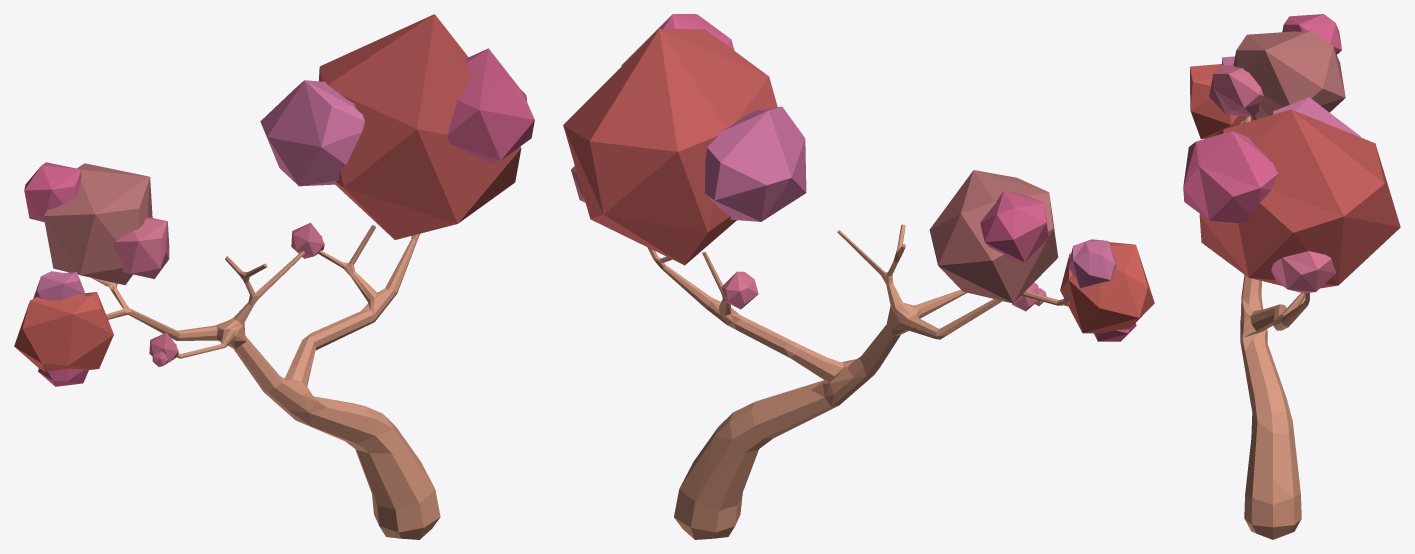
Rendered from Cherry Tree.fbx.
3 renders of one model, left to right at view 1: azimuth 30°, elevation 25°; view 2: azimuth 150°, elevation 25°; view 3: azimuth 270°, elevation 25°, orthographic. The views are drawn at different scales.
Visible parts, largest first — view 1: Icosphere.008, Cube, Icosphere, Icosphere.006, Icosphere.007, Icosphere.005, Icosphere.001, Icosphere.002, Icosphere.004, Icosphere.010, Icosphere.003; view 2: Icosphere.008, Cube, Icosphere.006, Icosphere, Icosphere.005, Icosphere.002, Icosphere.004, Icosphere.010, Icosphere.007; view 3: Icosphere.008, Cube, Icosphere, Icosphere.007, Icosphere.001, Icosphere.005, Icosphere.009, Icosphere.002, Icosphere.006.
Boxes of the visible parts, box(x1,y1,x2,y2) form: Icosphere.008: box(319, 14, 521, 239); Cube: box(91, 225, 440, 539); Icosphere: box(43, 163, 152, 285); Icosphere.006: box(260, 80, 364, 186); Icosphere.007: box(447, 48, 534, 163); Icosphere.005: box(14, 292, 113, 371); Icosphere.001: box(113, 217, 169, 278); Icosphere.002: box(24, 162, 81, 222); Icosphere.004: box(33, 271, 85, 300); Icosphere.010: box(291, 222, 324, 258); Icosphere.003: box(38, 368, 88, 386); Icosphere.008: box(563, 29, 777, 265); Cube: box(647, 224, 1070, 539); Icosphere.006: box(704, 106, 806, 221); Icosphere: box(929, 170, 1058, 303); Icosphere.005: box(1060, 242, 1154, 333); Icosphere.002: box(980, 191, 1048, 262); Icosphere.004: box(1068, 239, 1116, 287); Icosphere.010: box(721, 271, 758, 309); Icosphere.007: box(621, 14, 734, 65); Icosphere.008: box(1199, 109, 1400, 288); Cube: box(1240, 116, 1309, 539); Icosphere: box(1233, 30, 1345, 119); Icosphere.007: box(1183, 131, 1277, 223); Icosphere.001: box(1209, 64, 1263, 116); Icosphere.005: box(1190, 64, 1253, 138); Icosphere.009: box(1271, 251, 1335, 293); Icosphere.002: box(1282, 14, 1341, 54); Icosphere.006: box(1271, 97, 1360, 137).
Size of the model in its own units: 1151 by 1058 by 471.
